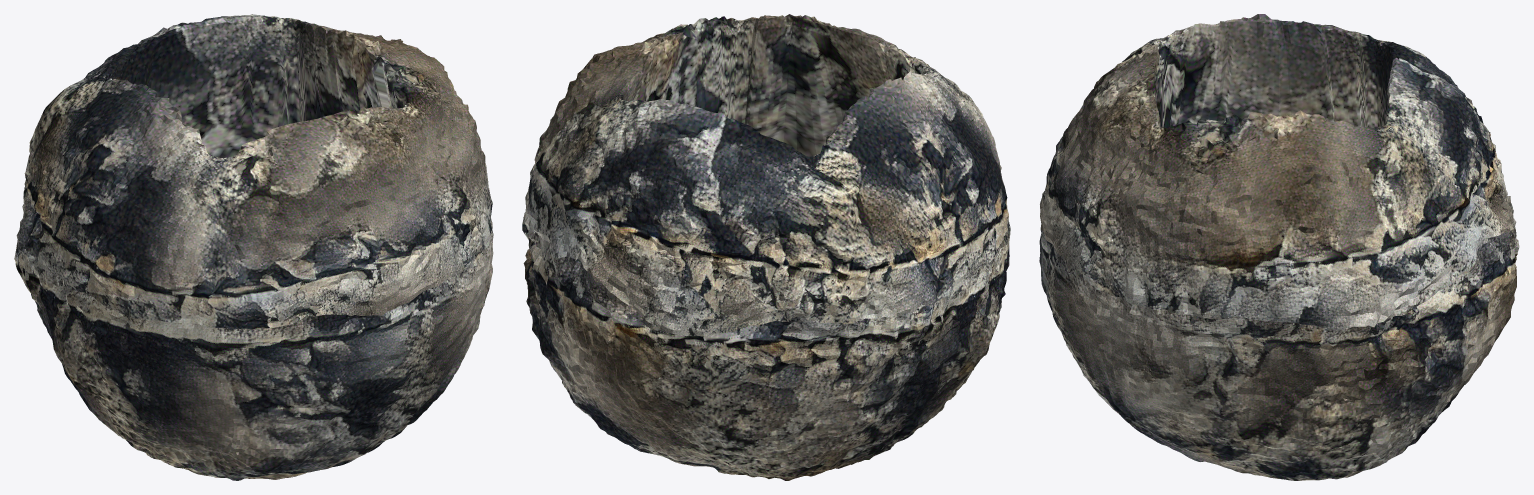
File: rock-1.obj
The picture shows the model from 3 angles, left to right: view 1: azimuth 30°, elevation 25°; view 2: azimuth 150°, elevation 25°; view 3: azimuth 270°, elevation 25°; orthographic projection.
Visible parts, largest first — view 1: Quad_Sphere; view 2: Quad_Sphere; view 3: Quad_Sphere.
Boxes of the visible parts, bbox=[...] form: Quad_Sphere: bbox=[14, 14, 493, 480]; Quad_Sphere: bbox=[522, 14, 1010, 480]; Quad_Sphere: bbox=[1039, 14, 1519, 480].
Bounding box in the file's own units: 2.66 × 2.38 × 2.66.
1 material, 1 textured.
